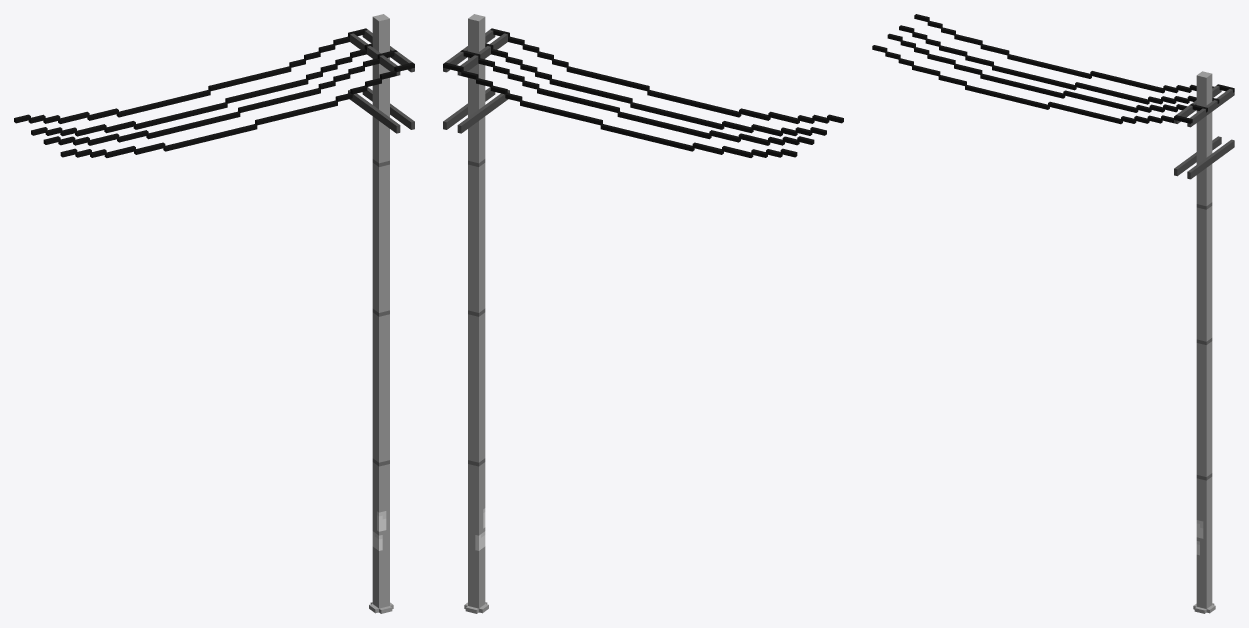
File: poleOne.glb
3 views of the same model, side by side, from view 1: azimuth 30°, elevation 25°; view 2: azimuth 150°, elevation 25°; view 3: azimuth 330°, elevation 25° (orthographic). The views are drawn at different scales.
Visible parts, largest first — view 1: ObjObject; view 2: ObjObject; view 3: ObjObject.
Part boxes in pixels (x1,y1,x2,y2): ObjObject: (14, 14, 414, 613); ObjObject: (443, 14, 843, 613); ObjObject: (872, 14, 1234, 613).
Bounding box in the file's own units: 9.6 × 15.4 × 2.3.
Materials: 1 (1 with a texture image).
